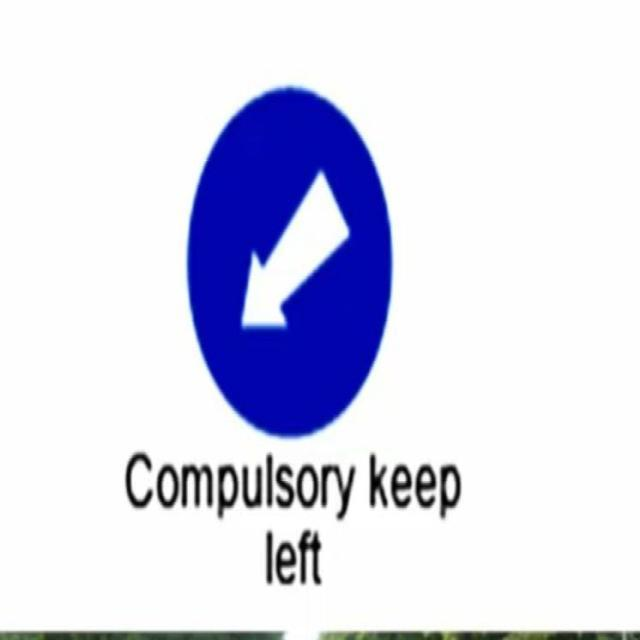compulsary keep left: (183, 84, 395, 437)
